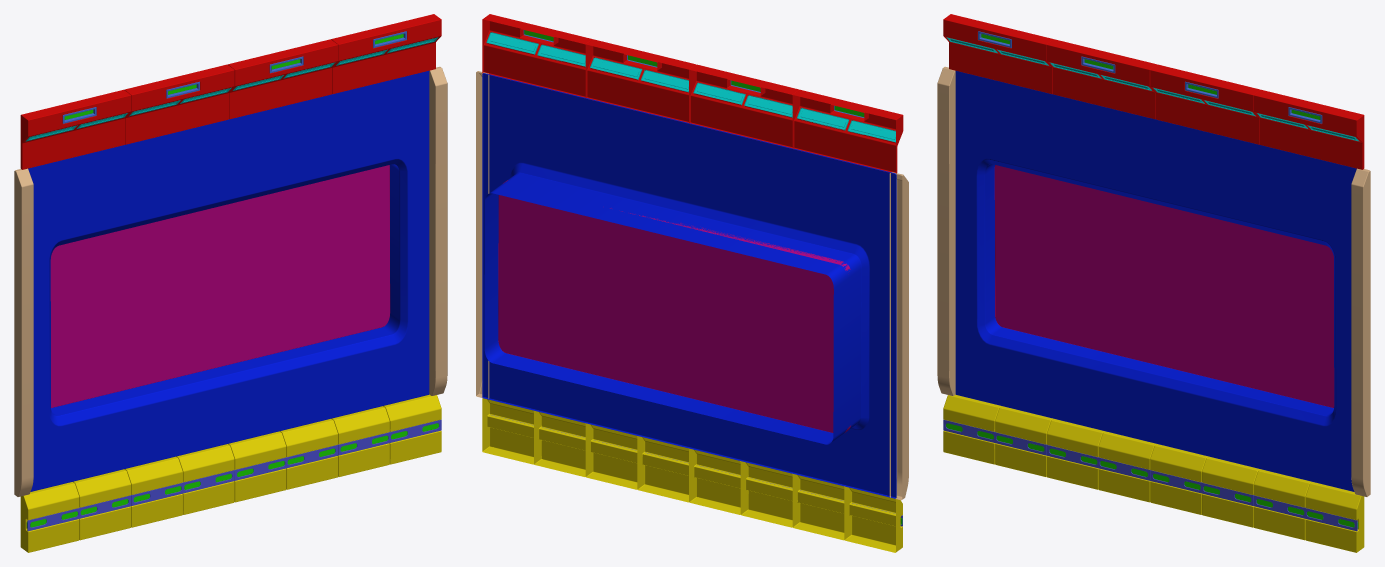
Rendered from Window_large.fbx.
3 views of the same model, side by side, from view 1: azimuth 30°, elevation 25°; view 2: azimuth 150°, elevation 25°; view 3: azimuth 330°, elevation 25° (orthographic).
Parts seen in each view (by area): view 1: Window_large; view 2: Window_large; view 3: Window_large.
Part boxes in pixels (<box>): Window_large: <box>14,14,447,552</box>; Window_large: <box>476,14,908,552</box>; Window_large: <box>937,14,1370,552</box>.
Size of the model in its own units: 8.24 by 8 by 1.25.
